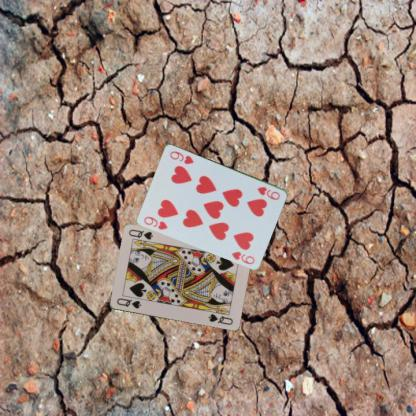9h: (255, 184, 281, 201), (142, 214, 168, 231)
Qs: (114, 296, 142, 310)
